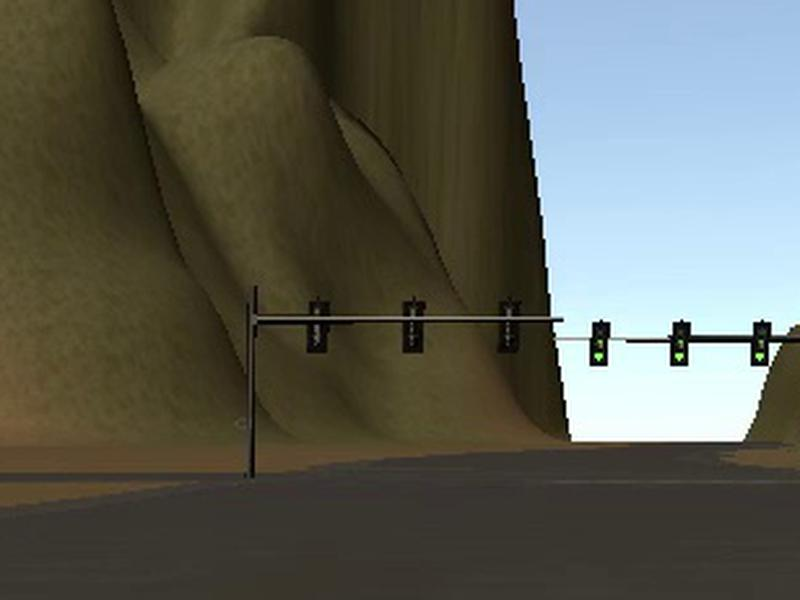Green: (750, 321, 773, 366), (590, 321, 612, 367), (670, 321, 690, 366)
